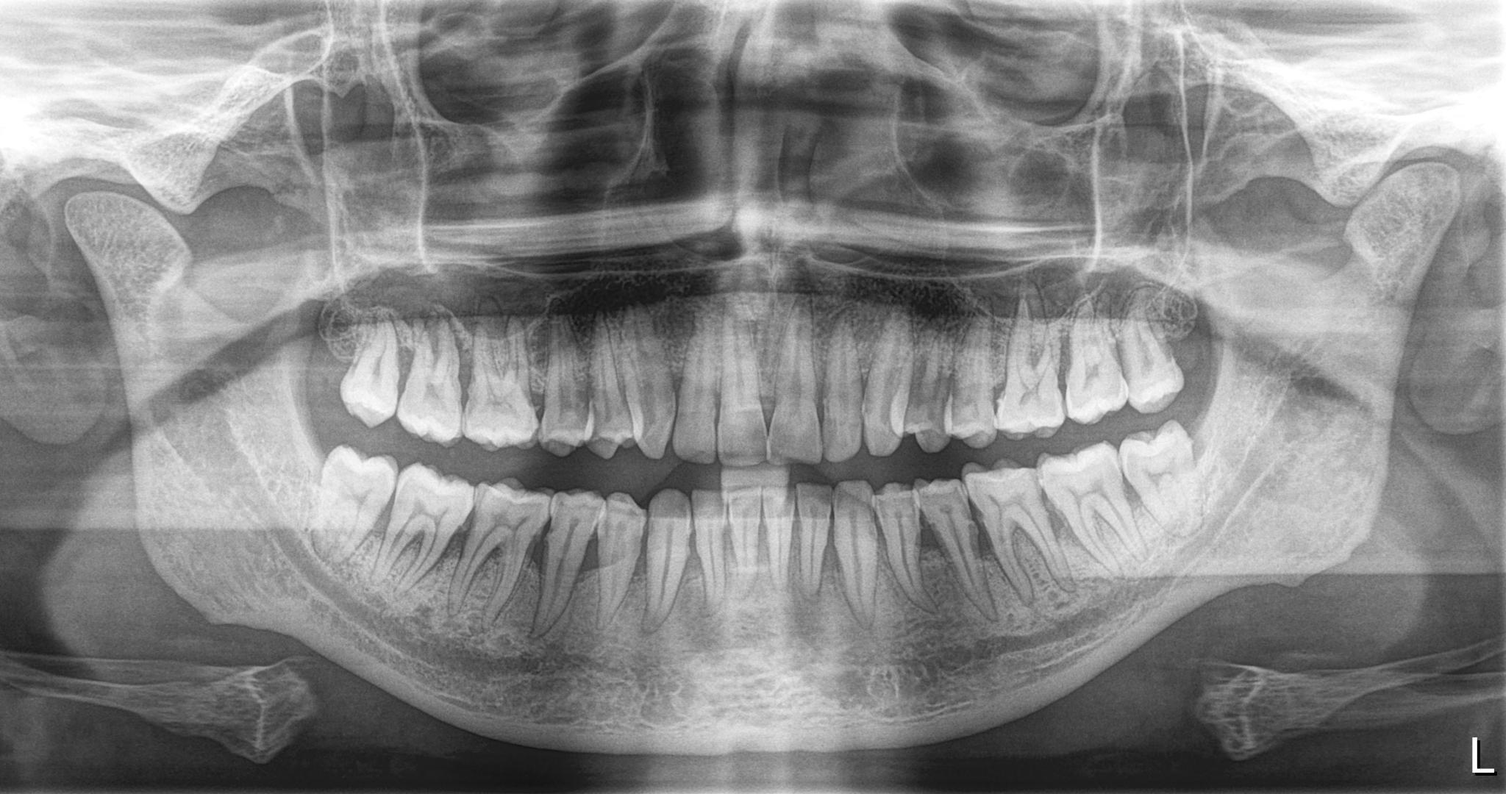Periodontal Pocket: (386, 473, 467, 599), (460, 322, 530, 451), (1048, 471, 1120, 583), (476, 483, 536, 604), (768, 331, 823, 463), (711, 325, 766, 455), (989, 474, 1043, 605), (548, 485, 596, 613), (1004, 309, 1052, 433), (401, 325, 454, 435), (818, 322, 861, 457), (936, 491, 992, 592), (908, 322, 949, 457), (884, 483, 927, 605), (631, 329, 671, 455), (546, 322, 585, 449), (586, 327, 626, 449), (835, 496, 877, 607), (859, 329, 896, 452), (684, 322, 715, 463), (1061, 329, 1108, 421), (688, 505, 730, 605), (645, 502, 683, 608), (607, 502, 638, 614), (956, 331, 989, 435), (803, 494, 826, 607), (768, 498, 793, 601), (739, 500, 766, 595)
